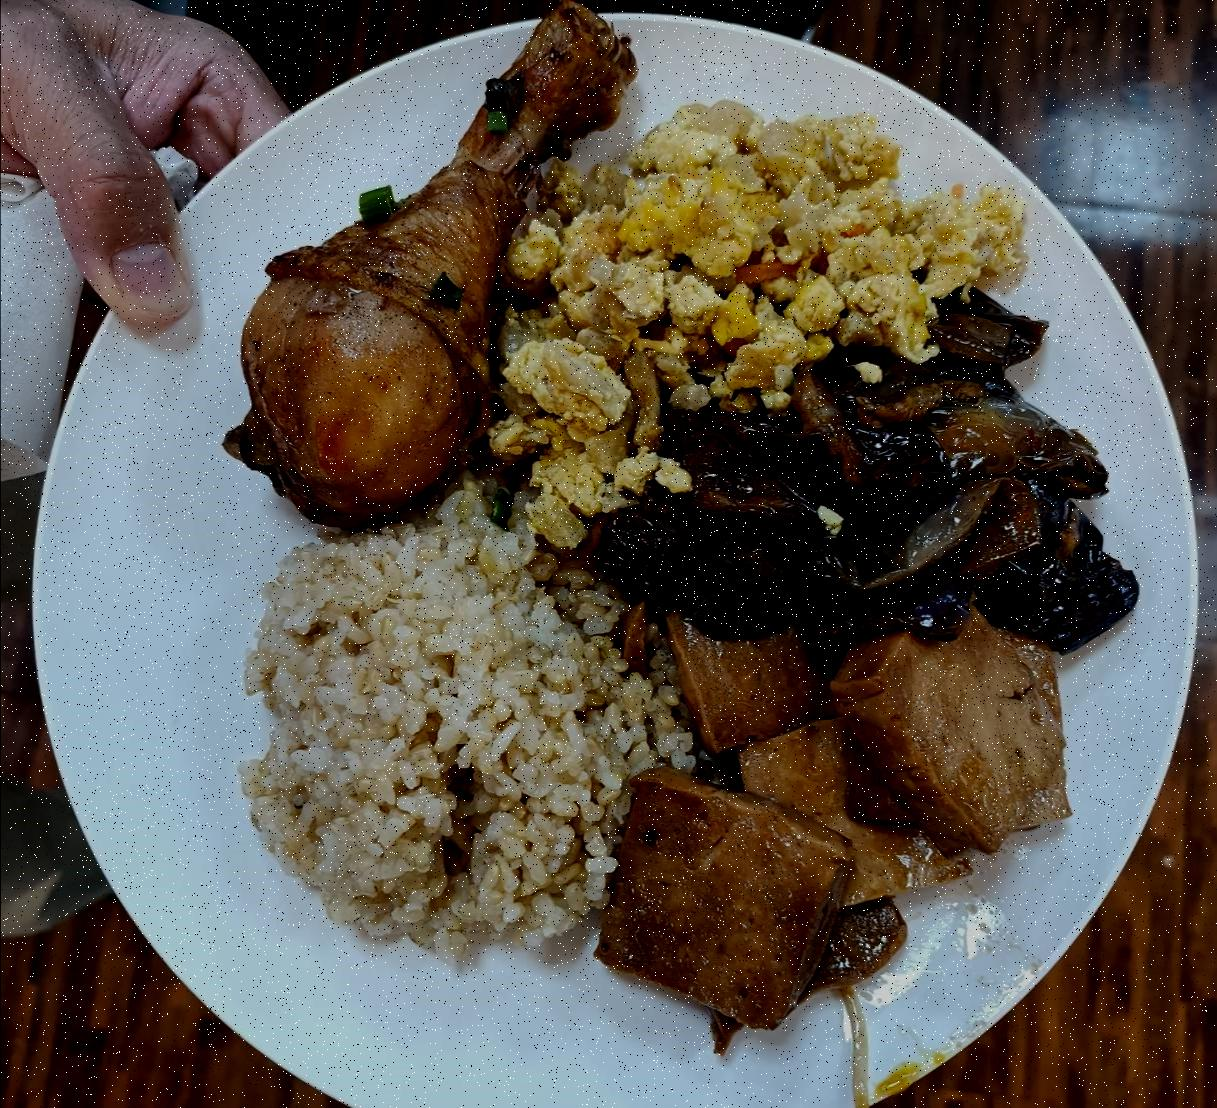big fried chicken leg: (7, 0, 1201, 1098)
box: (257, 513, 639, 943)
braised fish fillet: (492, 106, 1027, 552), (636, 608, 1063, 1023), (648, 328, 1122, 604)
braised pork: (239, 8, 638, 505)
